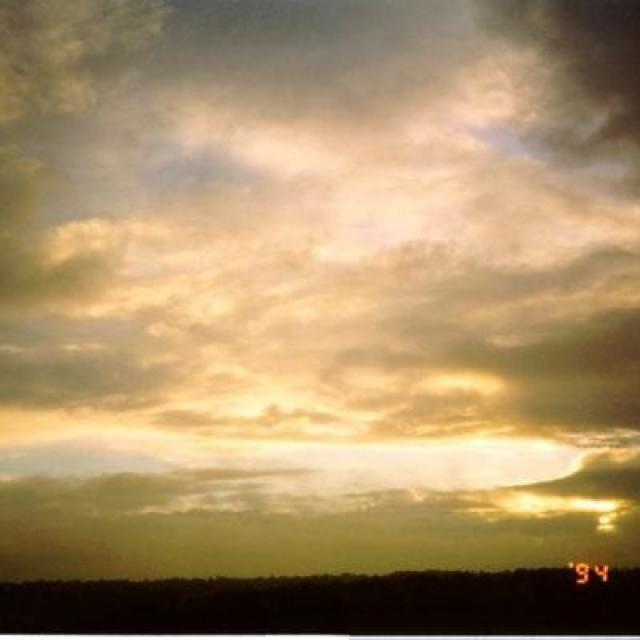Ns: (1, 22, 640, 502)
